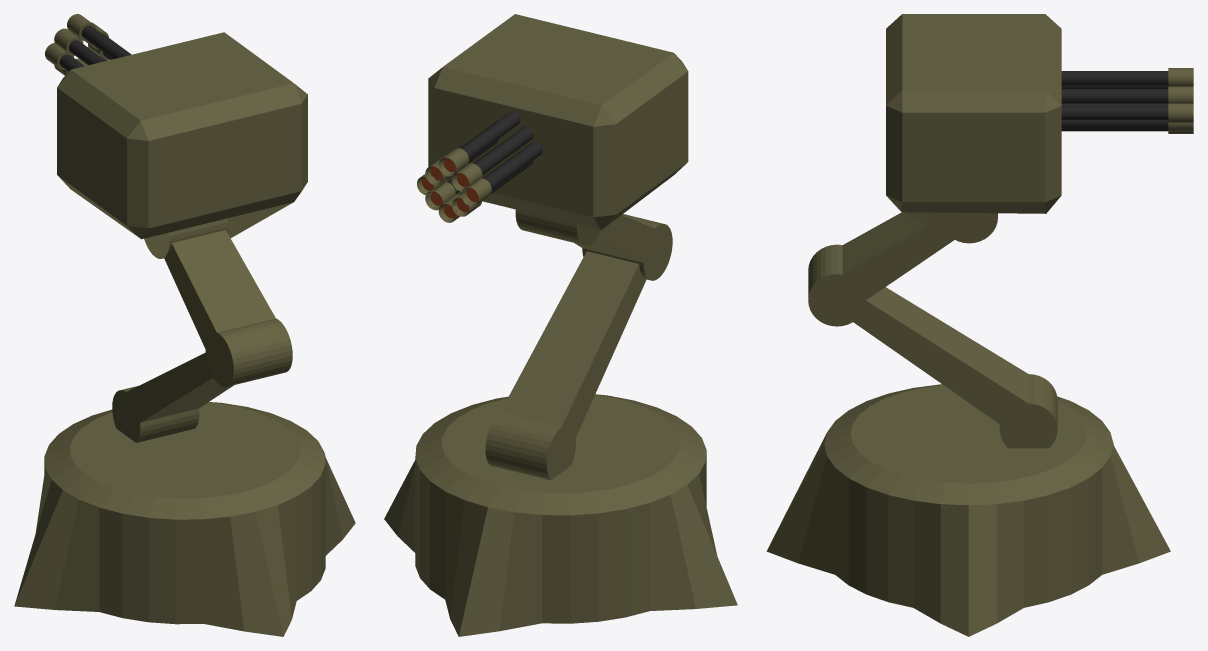
The model's file is Turret4.fbx.
The picture shows the model from 3 angles, left to right: view 1: azimuth 30°, elevation 25°; view 2: azimuth 150°, elevation 25°; view 3: azimuth 270°, elevation 25°; orthographic projection. The views are drawn at different scales.
Visible parts, largest first — view 1: Cylinder.001, Base; view 2: Cylinder.001, Base; view 3: Cylinder.001, Base.
Part boxes in pixels (x1,y1,x2,y2): Cylinder.001: (45,14,307,442); Base: (14,402,355,636); Cylinder.001: (417,14,688,479); Base: (384,394,737,636); Cylinder.001: (808,14,1193,448); Base: (766,384,1170,636).
Size of the model in its own units: 280 by 381 by 296.
